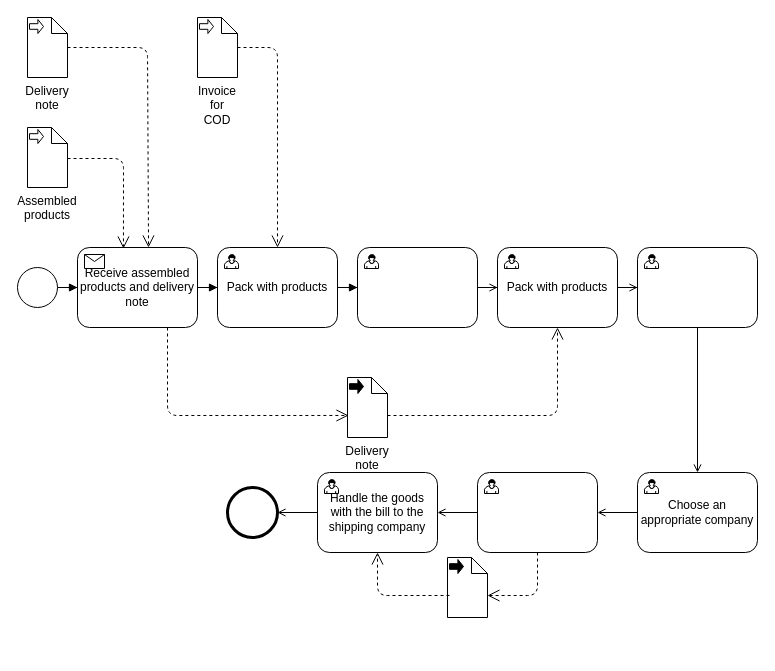
Image size: 775x671. Some labels were removed from this diagram. Each missing label, with the centre of its shape:
Bill of lading: [467,587]
Check for special packing: [417,287]
Negotiate to find the best shipping company: [697,287]
Produce a bill of lading: [537,512]
